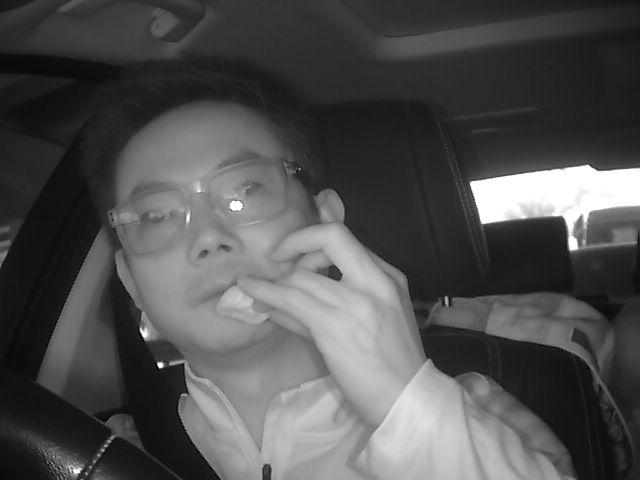hand: (255, 221, 424, 419)
